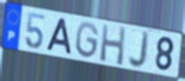5: (24, 11, 46, 51)
8: (154, 36, 175, 73)
A: (46, 17, 74, 56)
G: (75, 21, 100, 61)
H: (99, 23, 127, 68)
J: (127, 29, 151, 70)
